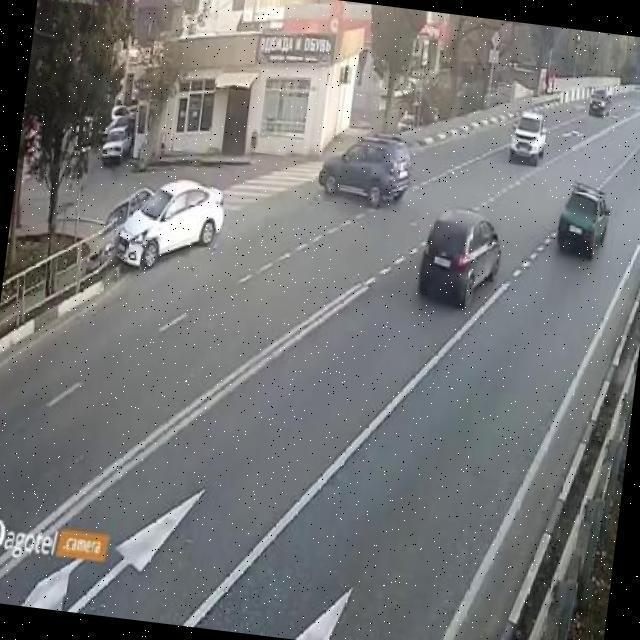accident: (93, 206, 161, 269)
